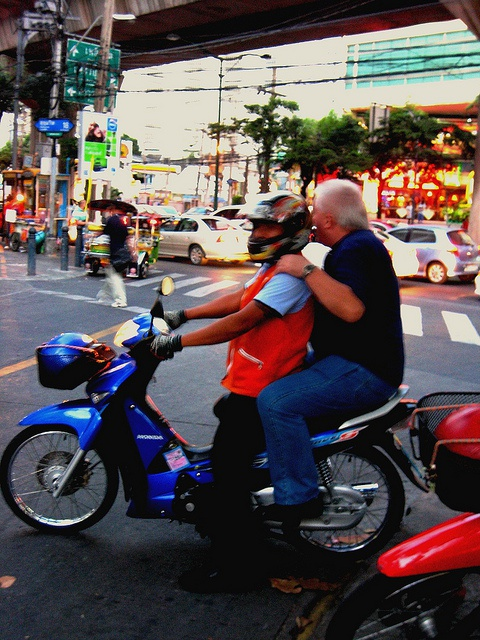non-vehicle: (0, 275, 431, 563), (310, 390, 479, 640)
